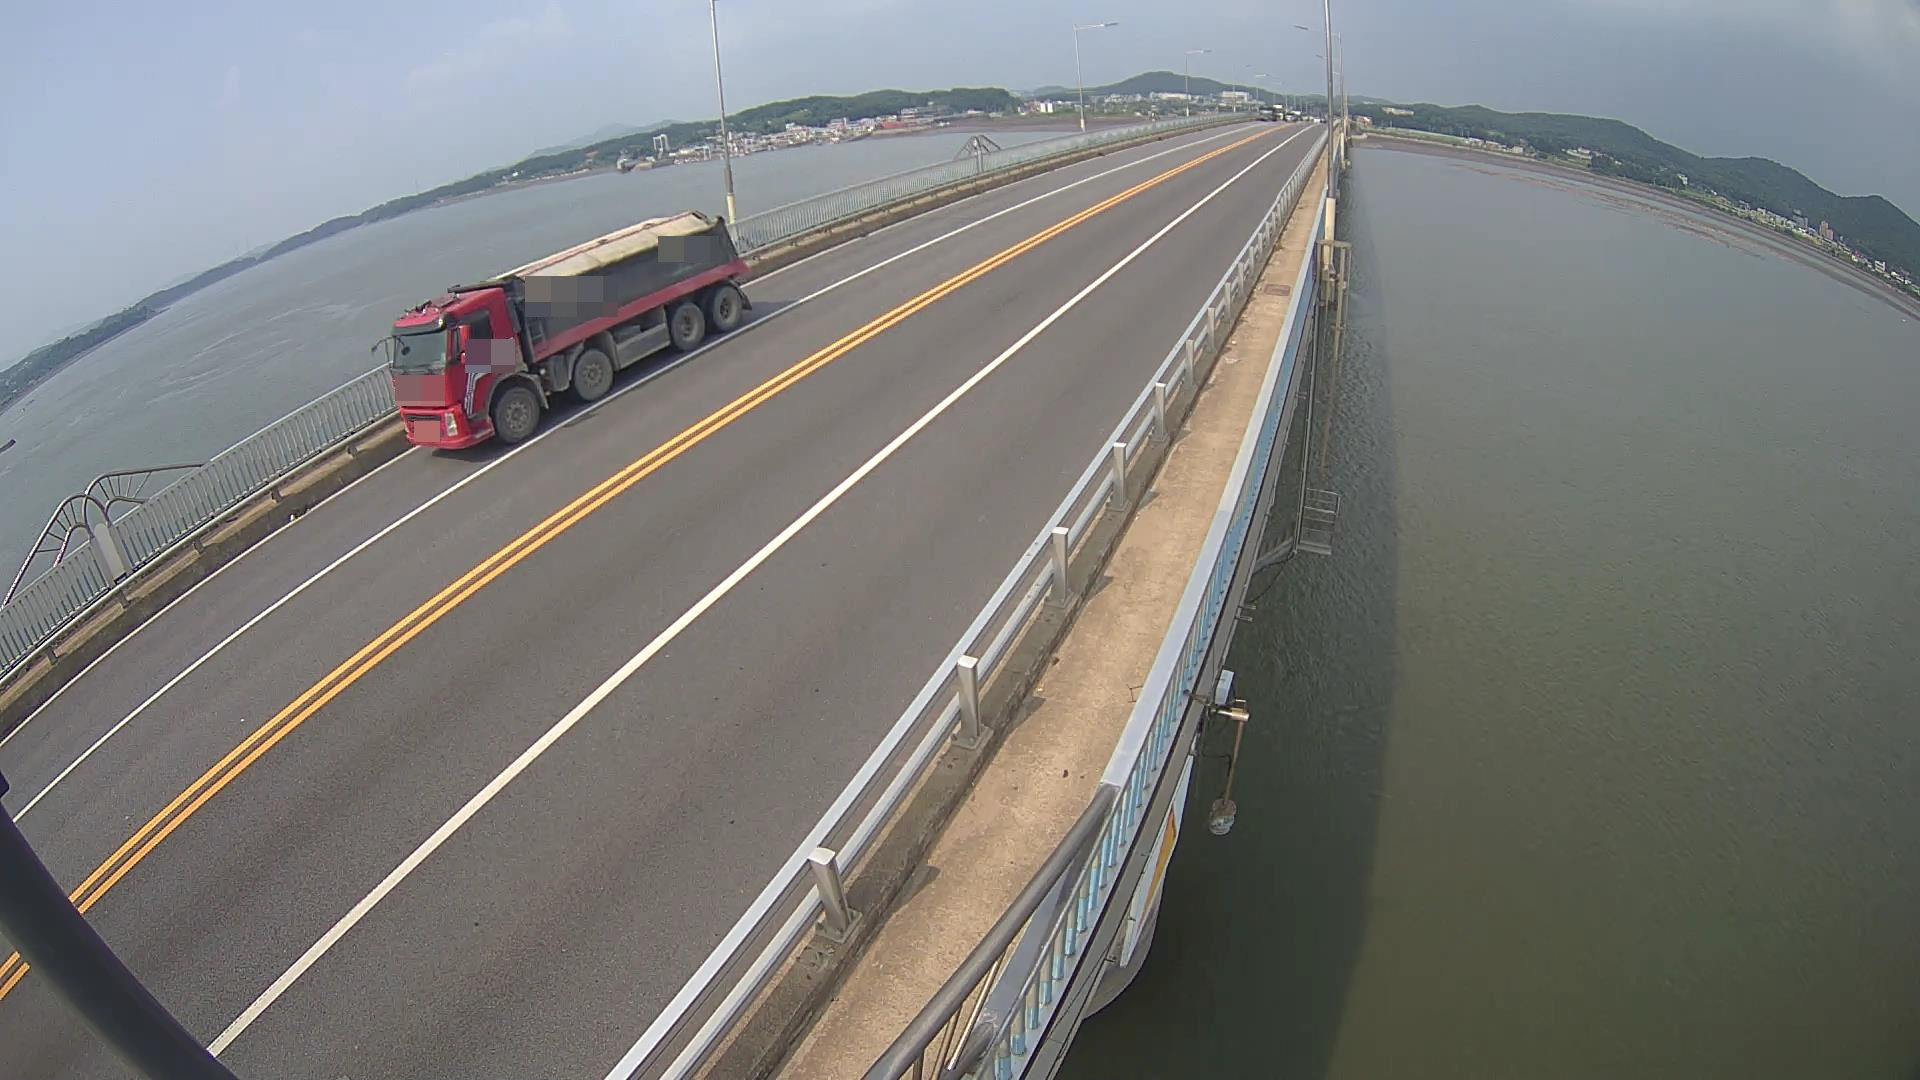정상차량: (372, 210, 752, 448)
